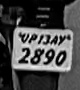0: (55, 50, 67, 66)
1: (35, 34, 43, 44)
2: (16, 47, 32, 67)
3: (42, 34, 51, 45)
8: (30, 47, 45, 67)
9: (43, 49, 56, 65)
A: (49, 36, 59, 45)
P: (28, 33, 37, 43)
U: (19, 33, 28, 44)
Y: (56, 34, 66, 48)
